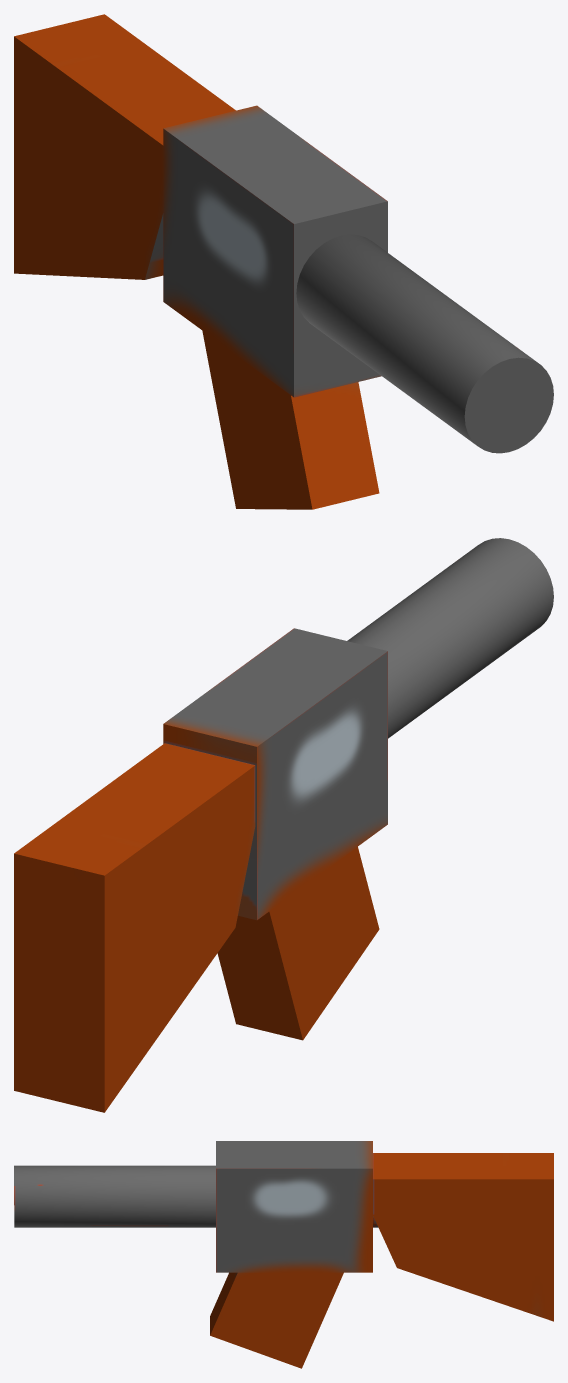
The picture shows the model from 3 angles, top to bottom: view 1: azimuth 30°, elevation 25°; view 2: azimuth 150°, elevation 25°; view 3: azimuth 270°, elevation 25°; orthographic projection. The views are drawn at different scales.
Parts seen in each view (by area): view 1: Cube; view 2: Cube; view 3: Cube.
Boxes of the visible parts, x1,y1,x2,y2 form: Cube: [14, 14, 553, 509]; Cube: [14, 538, 553, 1112]; Cube: [14, 1141, 553, 1368].
Size of the model in its own units: 0.1959 by 0.6788 by 1.63.
1 material, 1 textured.
